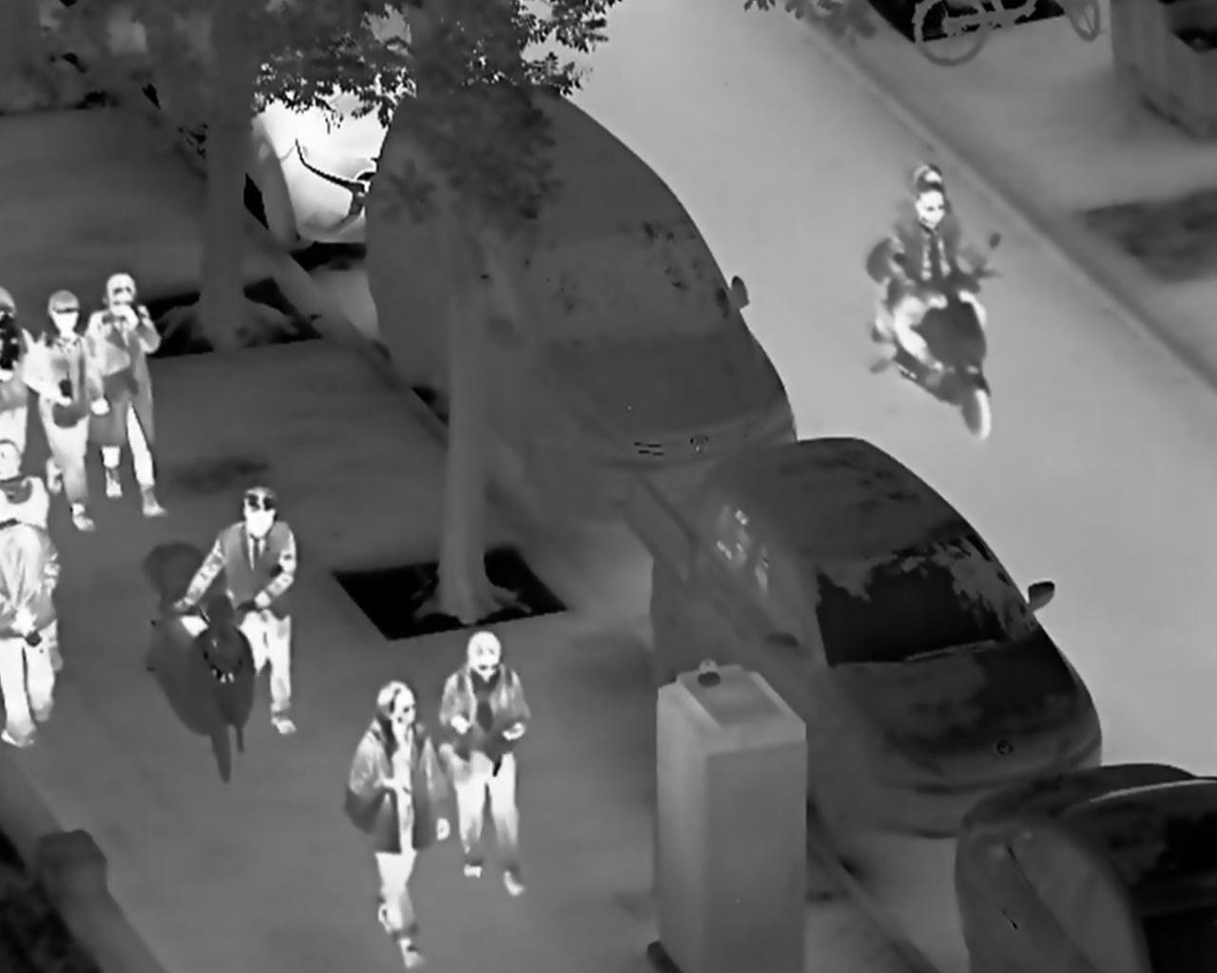person: (173, 485, 299, 737), (343, 678, 449, 973), (438, 628, 531, 898), (16, 289, 113, 534), (83, 271, 169, 521), (890, 182, 991, 378)
